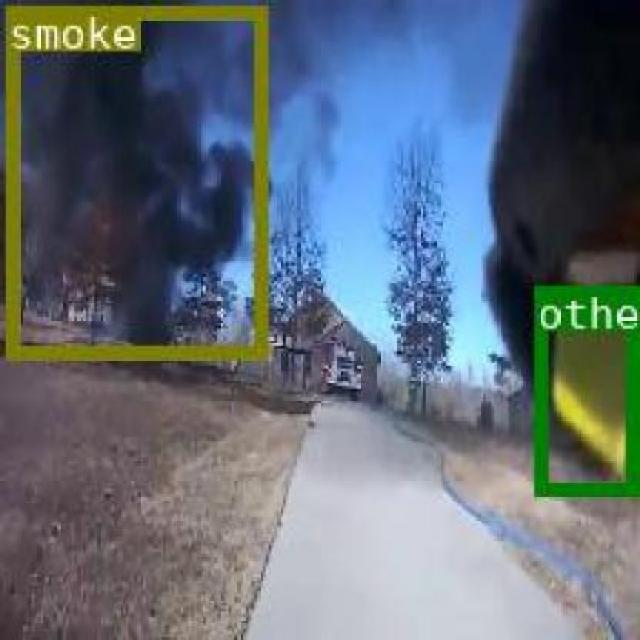Smoke: (4, 2, 264, 356)
